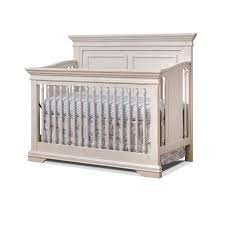crib: (22, 34, 197, 178)
